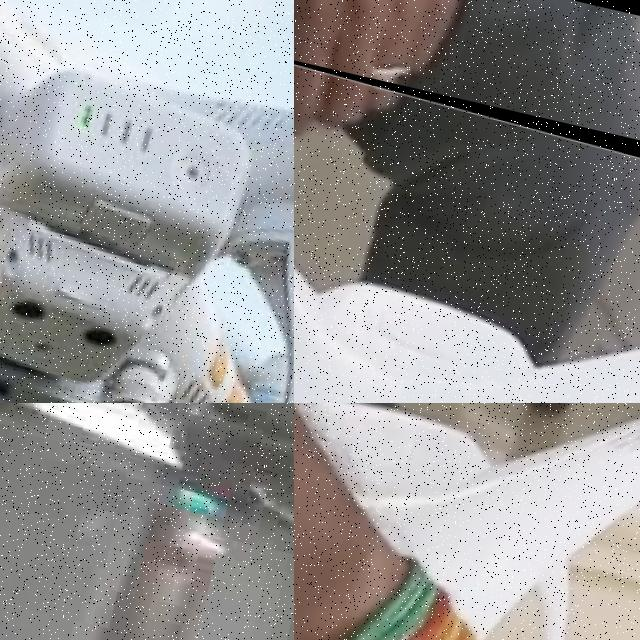drone: (294, 35, 640, 403), (0, 0, 294, 403), (294, 403, 640, 640)
